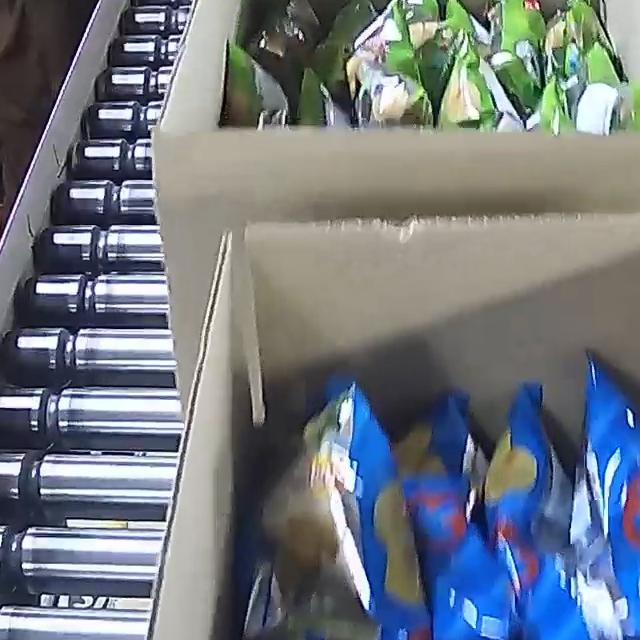paprika: (236, 351, 640, 640)
yogurt: (225, 0, 640, 135)
